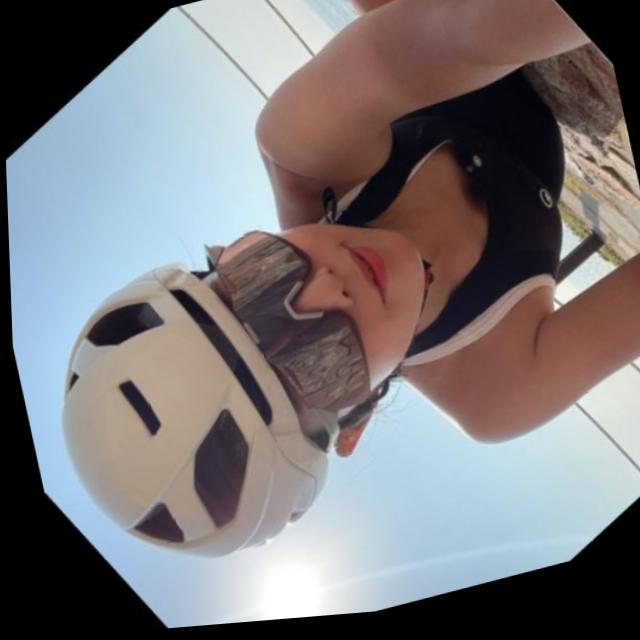WITH_HELMET: (6, 178, 387, 640)
